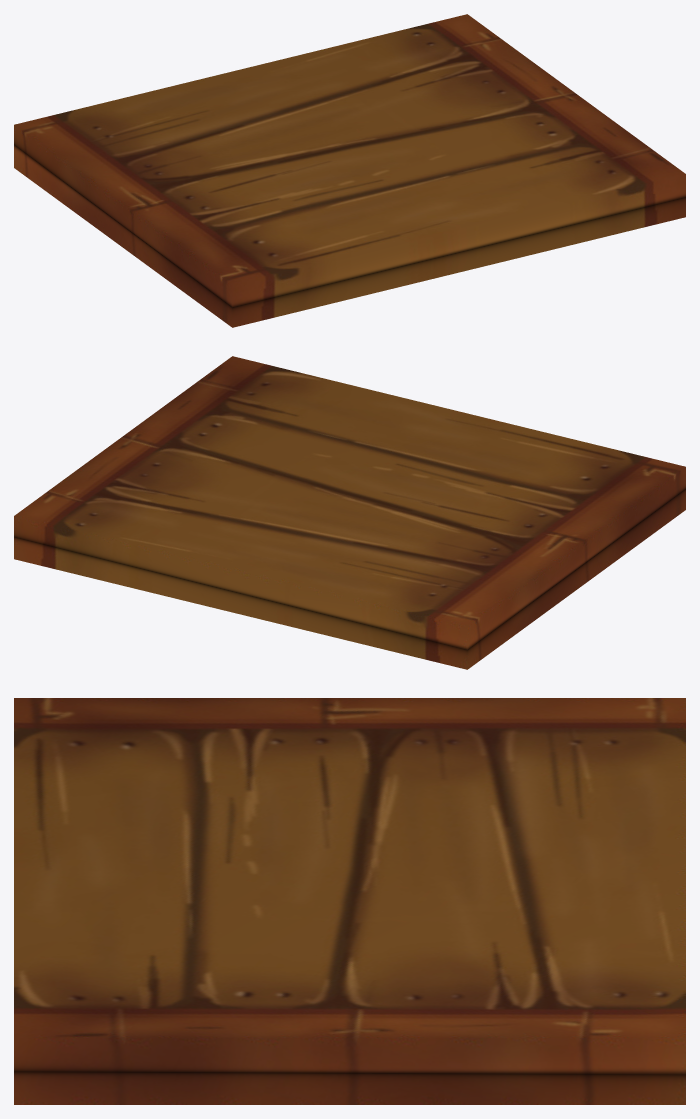
Rendered from Platform Beach - Pier.fbx.
3 views of the same model, one above another, from view 1: azimuth 30°, elevation 25°; view 2: azimuth 150°, elevation 25°; view 3: azimuth 270°, elevation 25° (orthographic). The views are drawn at different scales.
Visible parts, largest first — view 1: PolySphere; view 2: PolySphere; view 3: PolySphere.
Part boxes in pixels (<box>): PolySphere: <box>14,14,685,327</box>; PolySphere: <box>14,356,685,669</box>; PolySphere: <box>14,698,685,1104</box>.
Size of the model in its own units: 3.4 by 0.3095 by 2.84.
